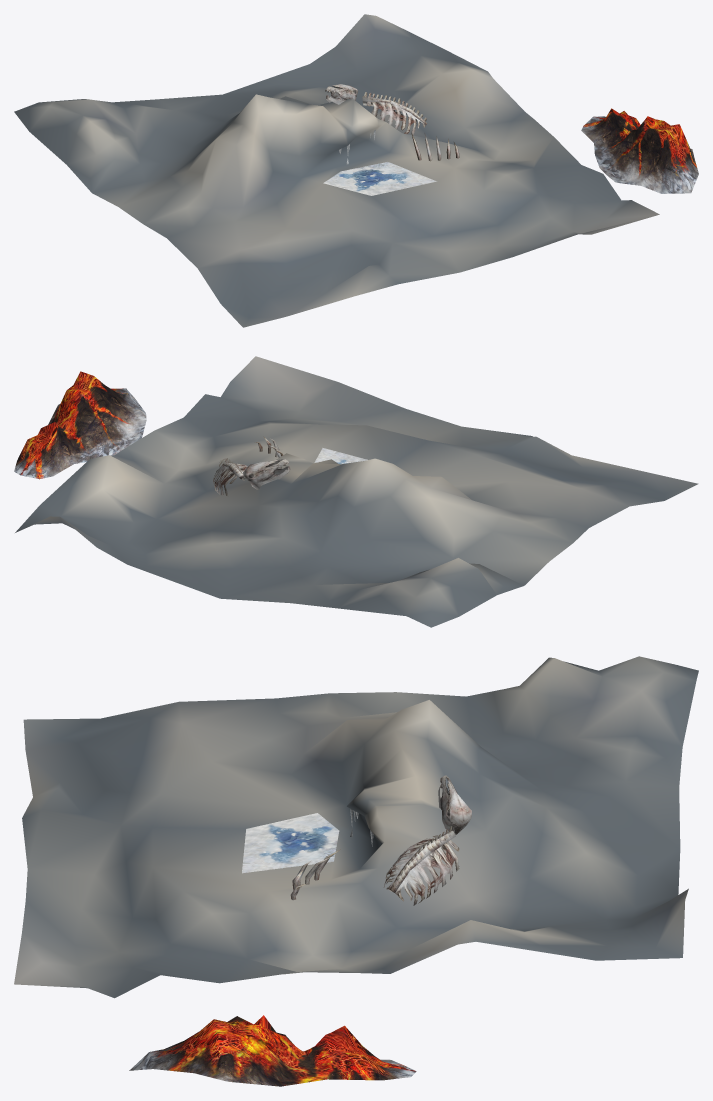
The model's file is Terrain_Snow.FBX.
The picture shows the model from 3 angles, top to bottom: view 1: azimuth 30°, elevation 25°; view 2: azimuth 150°, elevation 25°; view 3: azimuth 270°, elevation 25°; orthographic projection. The views are drawn at different scales.
Parts seen in each view (by area): view 1: Terrain_Snow, Snow_Volcano01, Snow_Bone02; view 2: Terrain_Snow, Snow_Volcano01, Snow_Bone02; view 3: Terrain_Snow, Snow_Volcano01, Snow_Bone02.
Part boxes in pixels (x1,y1,x2,y2): Terrain_Snow: [14, 14, 659, 327]; Snow_Volcano01: [581, 108, 698, 193]; Snow_Bone02: [325, 84, 459, 161]; Terrain_Snow: [15, 356, 698, 627]; Snow_Volcano01: [14, 371, 146, 479]; Snow_Bone02: [213, 436, 290, 496]; Terrain_Snow: [14, 656, 698, 998]; Snow_Volcano01: [129, 1015, 416, 1086]; Snow_Bone02: [290, 775, 471, 905].
Bounding box in the file's own units: 48623 × 9638 × 39074.
